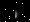person: (17, 8, 24, 22)
